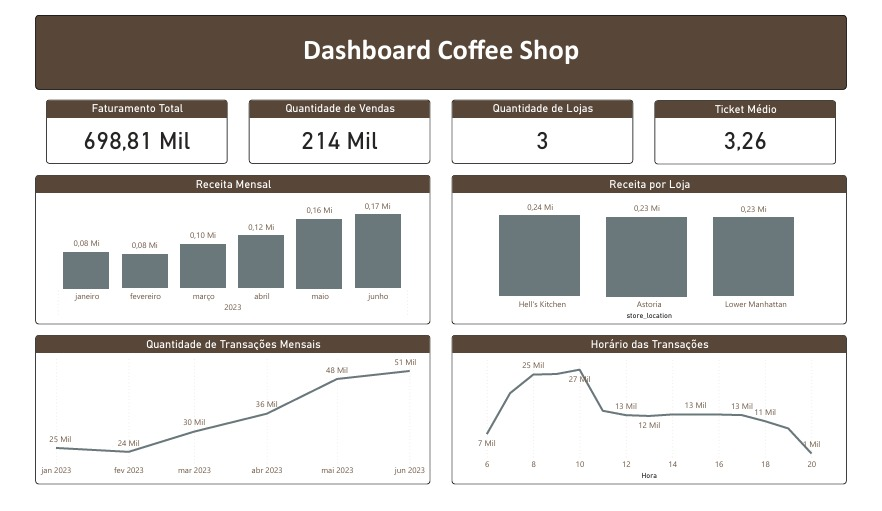

What the dashboard file says about the page in this screenshot:
{"tool":"powerbi","page":{"name":"Geral","canvas":[1280,720],"ordinal":0},"visuals":[{"type":"card","title":"Faturamento Total","fields":{"Values":["Transactions.Receita Total"]},"box":[48,127.2,272,96],"z":0},{"type":"clusteredColumnChart","title":"Receita por Loja","fields":{"Category":["Transactions.store_location"],"Y":["Transactions.Receita Total"]},"box":[656,240,592,224],"z":1000},{"type":"columnChart","title":"Receita Mensal","fields":{"Category":["Transactions.transaction_date.Variation.Hierarquia de datas.Ano","Transactions.transaction_date.Variation.Hierarquia de datas.Mês"],"Y":["Transactions.Receita Total"]},"box":[32,240,592,224],"z":2000},{"type":"card","title":"Quantidade de Vendas","fields":{"Values":["Transactions.Qtd Vendas"]},"box":[352,127.2,272,96],"z":3000},{"type":"lineChart","title":"Horário das Transações","fields":{"Category":["Transactions.Hora"],"Y":["Sum(Transactions.transaction_qty)"]},"box":[656,480,592,224],"z":4000},{"type":"textbox","box":[32,0,1216,112],"z":5000},{"type":"card","title":"Quantidade de Lojas","fields":{"Values":["Min(Transactions.store_id)"]},"box":[656,127.2,272,96],"z":6000},{"type":"card","title":"Ticket Médio","fields":{"Values":["Transactions.Ticket Médio"]},"box":[960,128,272,96],"z":7000},{"type":"lineChart","title":"Quantidade de Transações Mensais","fields":{"Category":["Transactions.transaction_date.Variation.Hierarquia de datas.Ano","Transactions.transaction_date.Variation.Hierarquia de datas.Mês"],"Y":["Transactions.Qtd Vendas"]},"box":[32,480,592,224],"z":8000}]}

Visuals, with their boxes in screenshot pixels (x1, y1, x2, y2), scaled from the page's 1280x720 canvas onto the 882x511 screenshot:
"Faturamento Total" card: x1=33, y1=90, x2=220, y2=158
"Receita por Loja" clusteredColumnChart: x1=452, y1=170, x2=860, y2=329
"Receita Mensal" columnChart: x1=22, y1=170, x2=430, y2=329
"Quantidade de Vendas" card: x1=243, y1=90, x2=430, y2=158
"Horário das Transações" lineChart: x1=452, y1=341, x2=860, y2=500
textbox: x1=22, y1=0, x2=860, y2=79
"Quantidade de Lojas" card: x1=452, y1=90, x2=639, y2=158
"Ticket Médio" card: x1=662, y1=91, x2=849, y2=159
"Quantidade de Transações Mensais" lineChart: x1=22, y1=341, x2=430, y2=500
